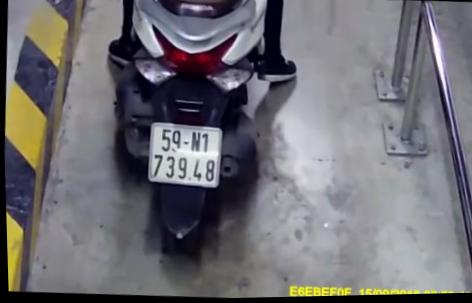LP: (139, 118, 226, 192)
